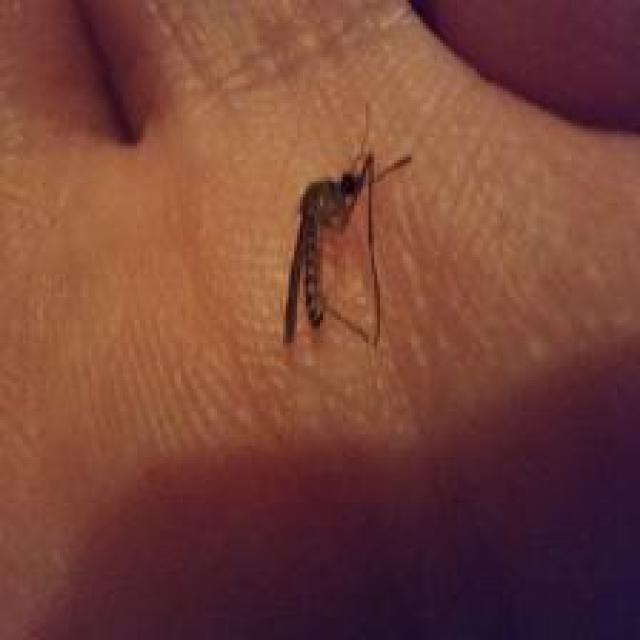Culex: (280, 101, 414, 350)
